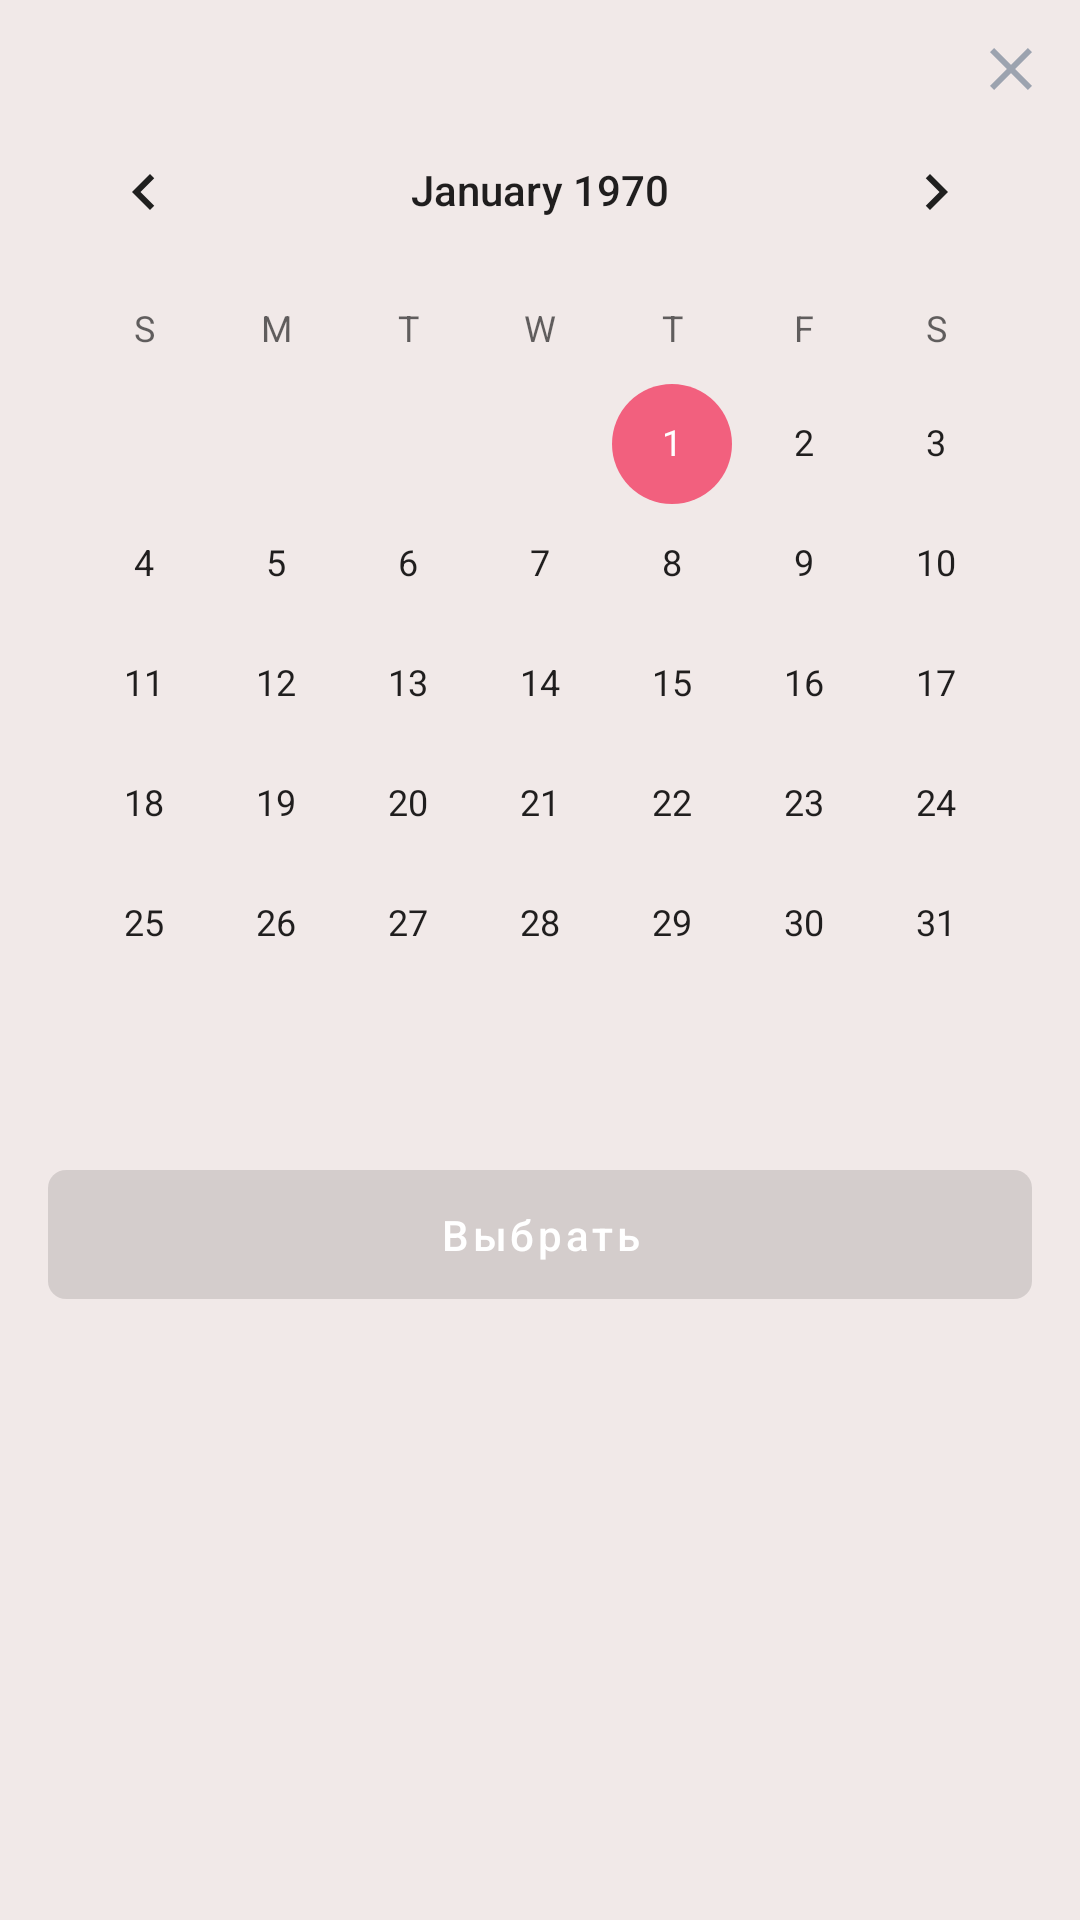

Icons on this 1080 × 1920 Android screen, each with the point to tap as (x=x, y=y):
close: (x=1011, y=69)
